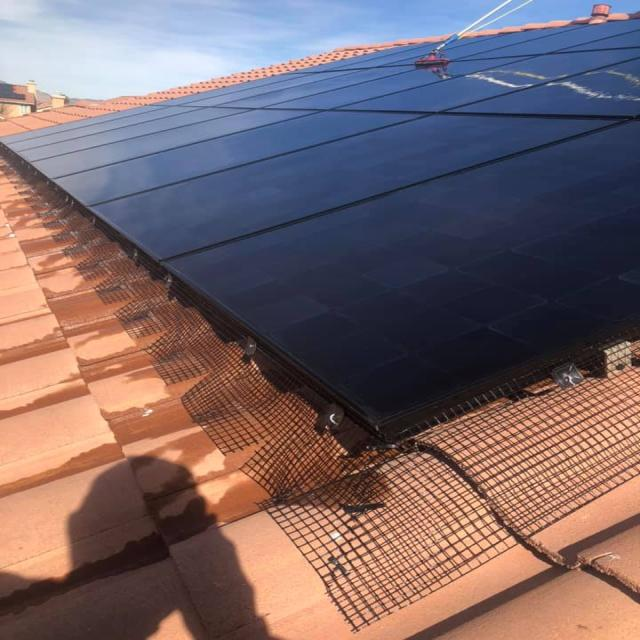clean-solar-panel: (3, 20, 638, 439)
